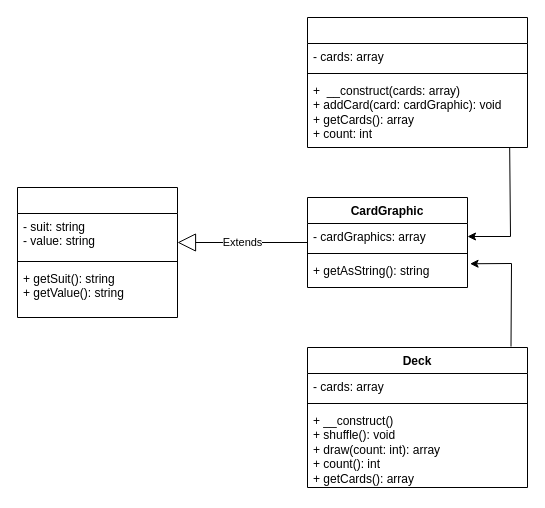
Image size: 545x508. Some labels were removed from this diagram. The shapes that lost their labels are listed below. From the top down, each one's box as (x1, y1, x2, y2) in pixels, then its label:
(306, 16, 528, 148): CardHand
(16, 186, 178, 318): Card
